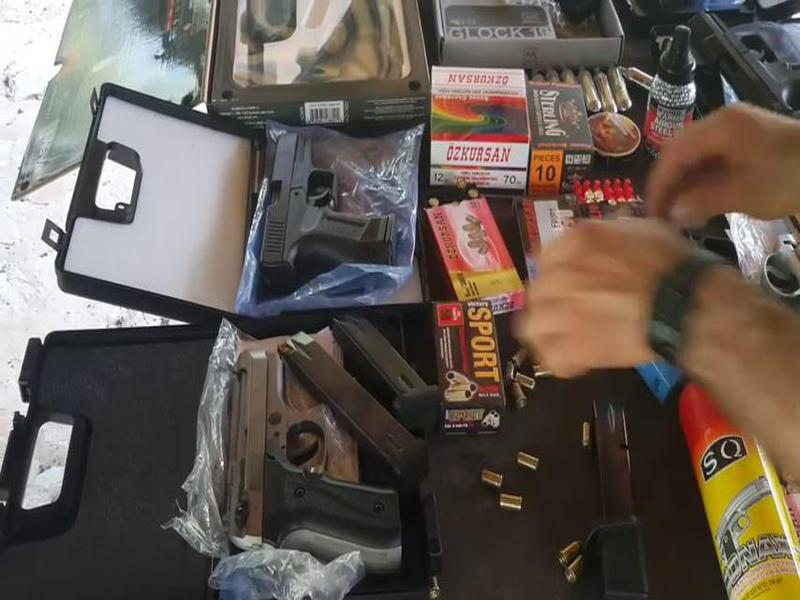Pistola: (196, 343, 417, 596), (256, 123, 413, 290)
